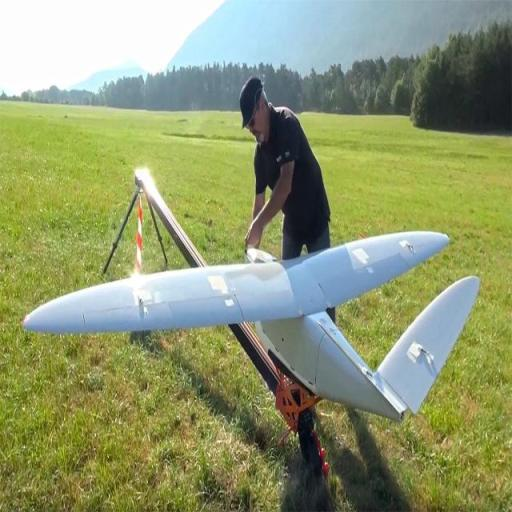uav: (22, 230, 480, 427)
